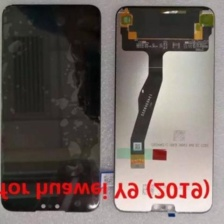phone: (110, 2, 217, 216), (0, 2, 104, 215)
